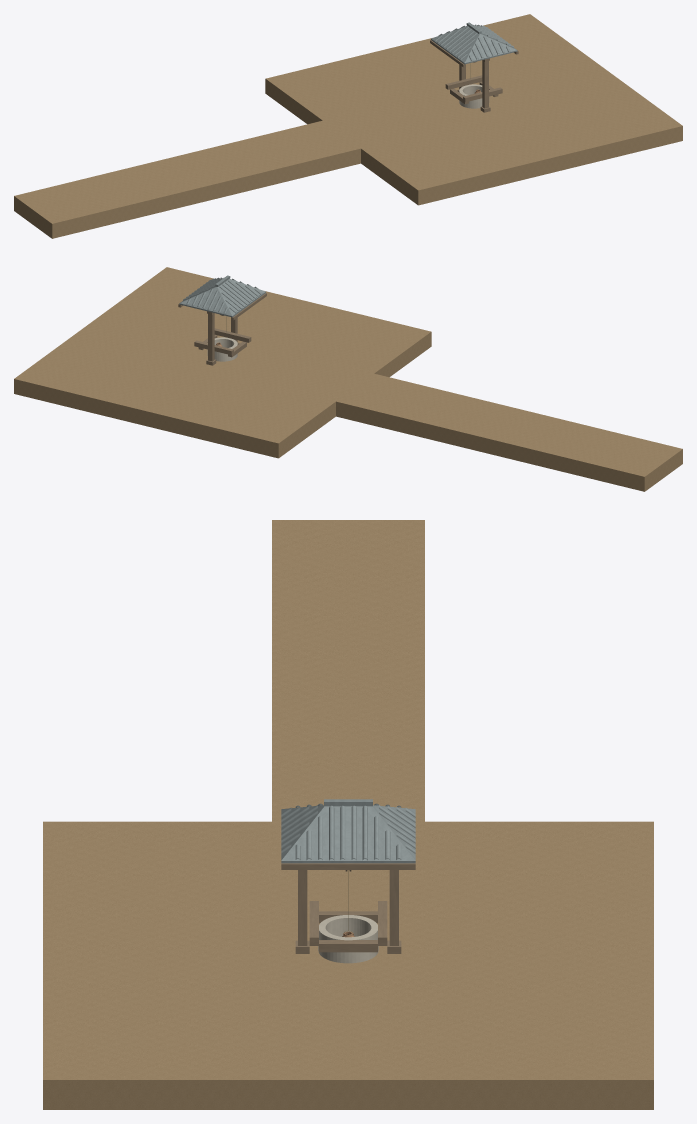
Rendered from z14-well-court-near.glb.
3 renders of one model, top to bottom at view 1: azimuth 30°, elevation 25°; view 2: azimuth 150°, elevation 25°; view 3: azimuth 270°, elevation 25°, orthographic. The views are drawn at different scales.
Visible parts, largest first — view 1: Z14_batched_Z14_NEW_C_EARTH_128, Z14_batched_REUSED_C_tile, Z14_batched_REUSED_C_wood, Z14_batched_REUSED_C_earth; view 2: Z14_batched_Z14_NEW_C_EARTH_128, Z14_batched_REUSED_C_tile, Z14_batched_REUSED_C_wood, Z14_batched_REUSED_C_earth; view 3: Z14_batched_Z14_NEW_C_EARTH_128, Z14_batched_REUSED_C_tile, Z14_batched_REUSED_C_wood, Z14_batched_REUSED_C_earth.
Boxes of the visible parts, x1,y1,x2,y2 form: Z14_batched_Z14_NEW_C_EARTH_128: (14, 14, 682, 238); Z14_batched_REUSED_C_tile: (431, 22, 517, 64); Z14_batched_REUSED_C_wood: (430, 40, 518, 112); Z14_batched_REUSED_C_earth: (459, 84, 489, 108); Z14_batched_Z14_NEW_C_EARTH_128: (14, 267, 682, 491); Z14_batched_REUSED_C_tile: (179, 275, 265, 317); Z14_batched_REUSED_C_wood: (178, 293, 266, 365); Z14_batched_REUSED_C_earth: (207, 337, 237, 361); Z14_batched_Z14_NEW_C_EARTH_128: (43, 520, 653, 1109); Z14_batched_REUSED_C_tile: (281, 799, 415, 863); Z14_batched_REUSED_C_wood: (281, 863, 415, 953); Z14_batched_REUSED_C_earth: (318, 915, 378, 963).
Size of the model in its own units: 26 by 3.9 by 12.
6 materials, 4 textured.
